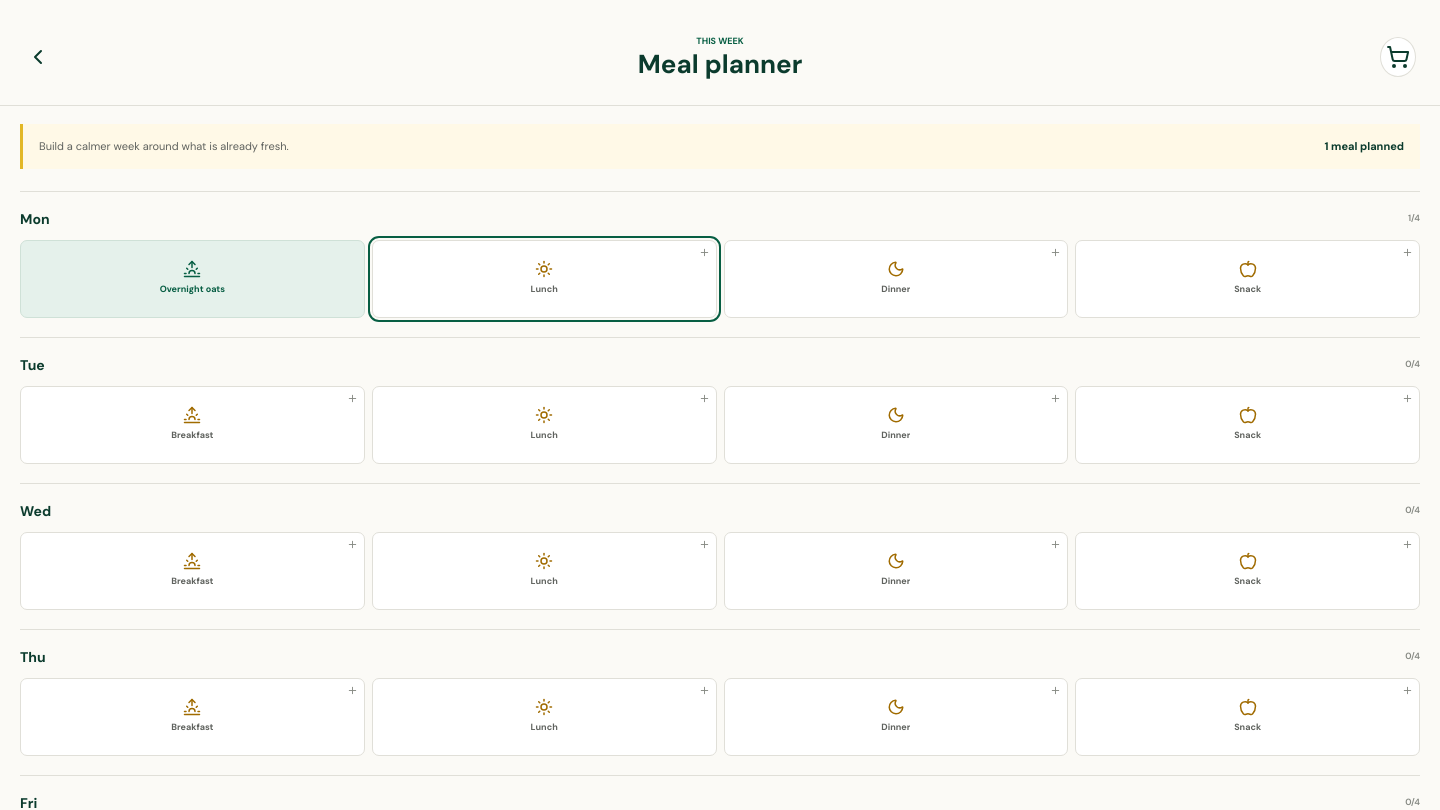
MealPlanner › hides the picker and restores focus on Escape or Close
Expected: the heading "Meal planner" is shown, [638,47,802,81]
Click the button with aria-label "Add lunch for Mon".
click(544, 278)  # box [372,240,717,318]
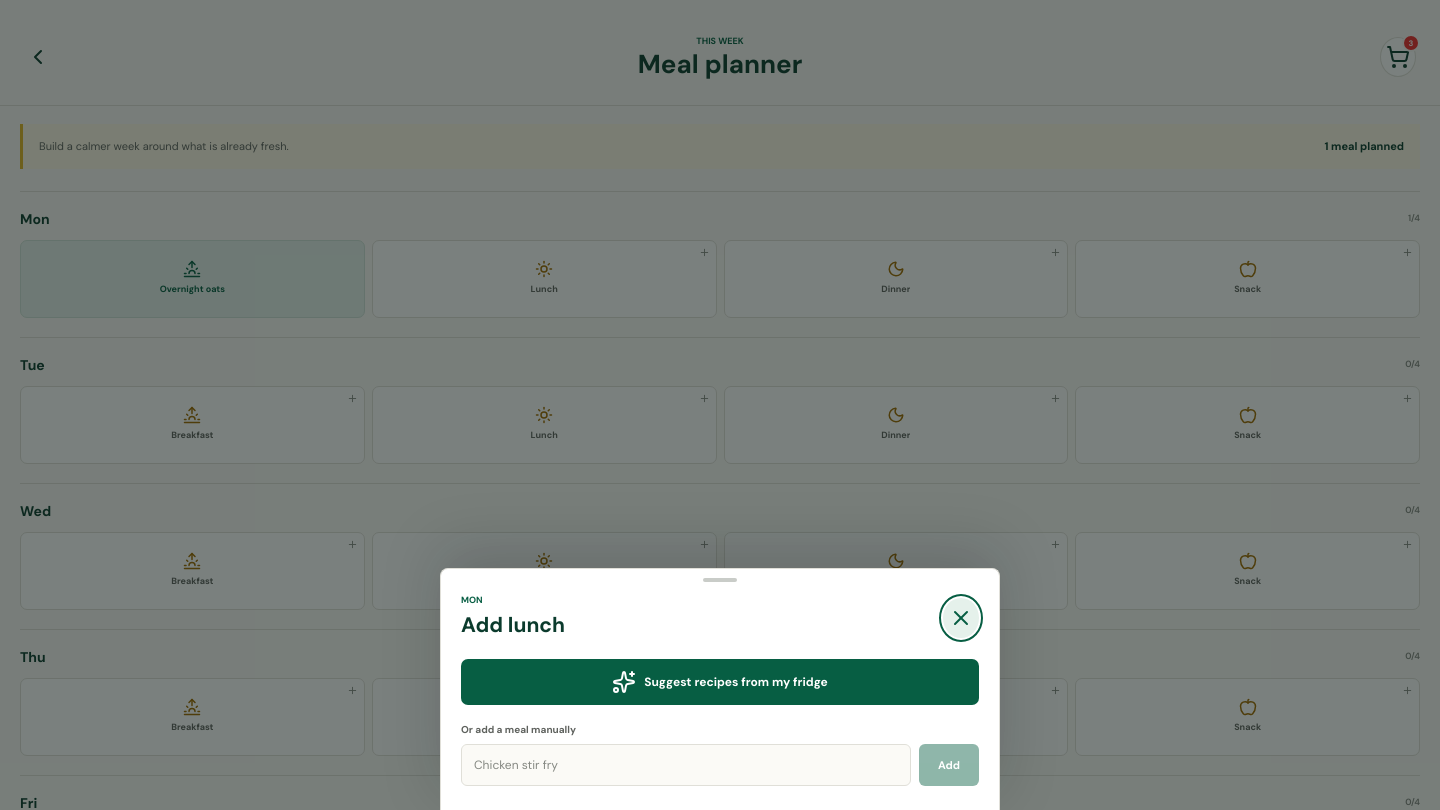
Now the dialog "Add lunch" is shown, box [440,568,1000,809]
Press Escape
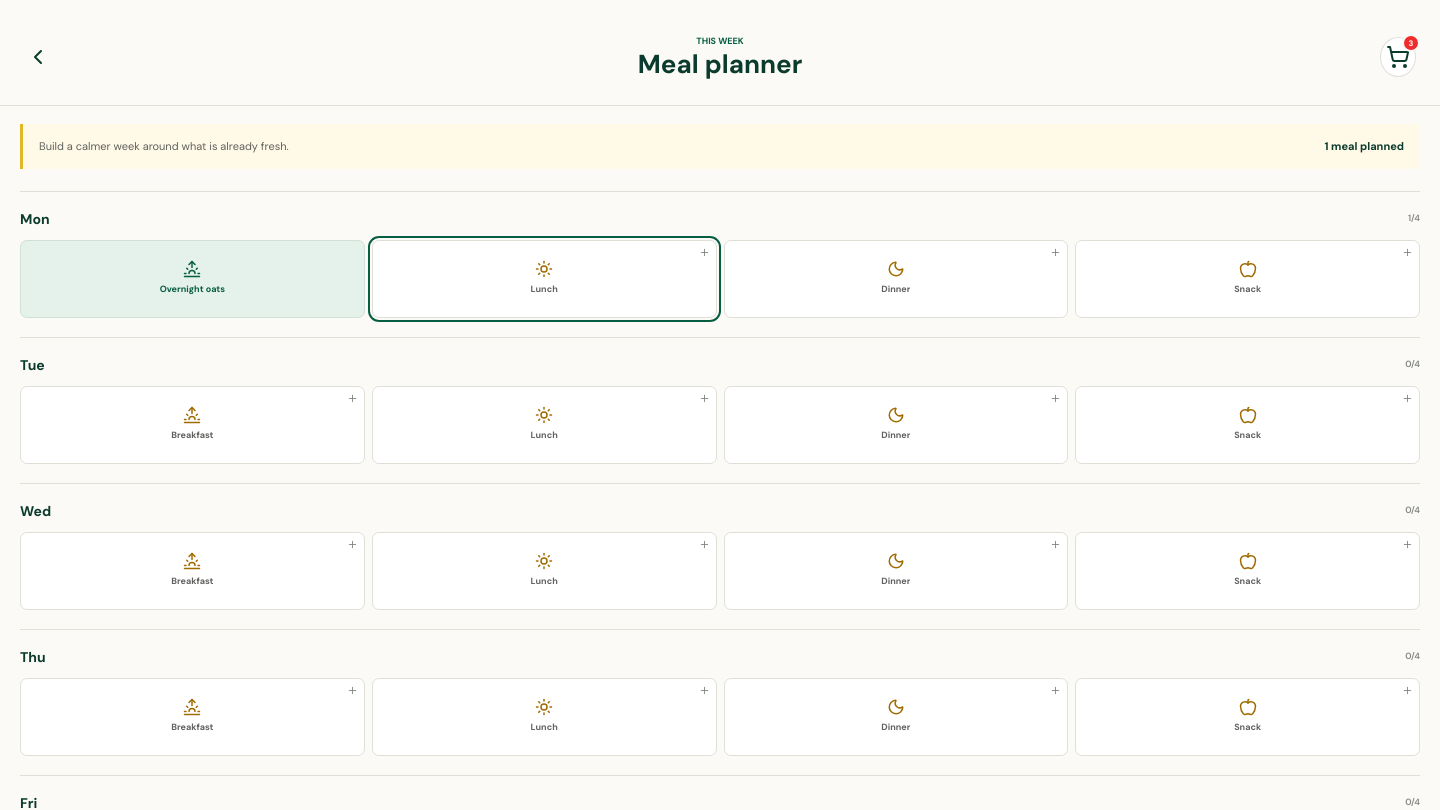
Now the heading "Add lunch" is gone
Click the button with aria-label "Add lunch for Mon".
click(544, 278)  # box [372,240,717,318]
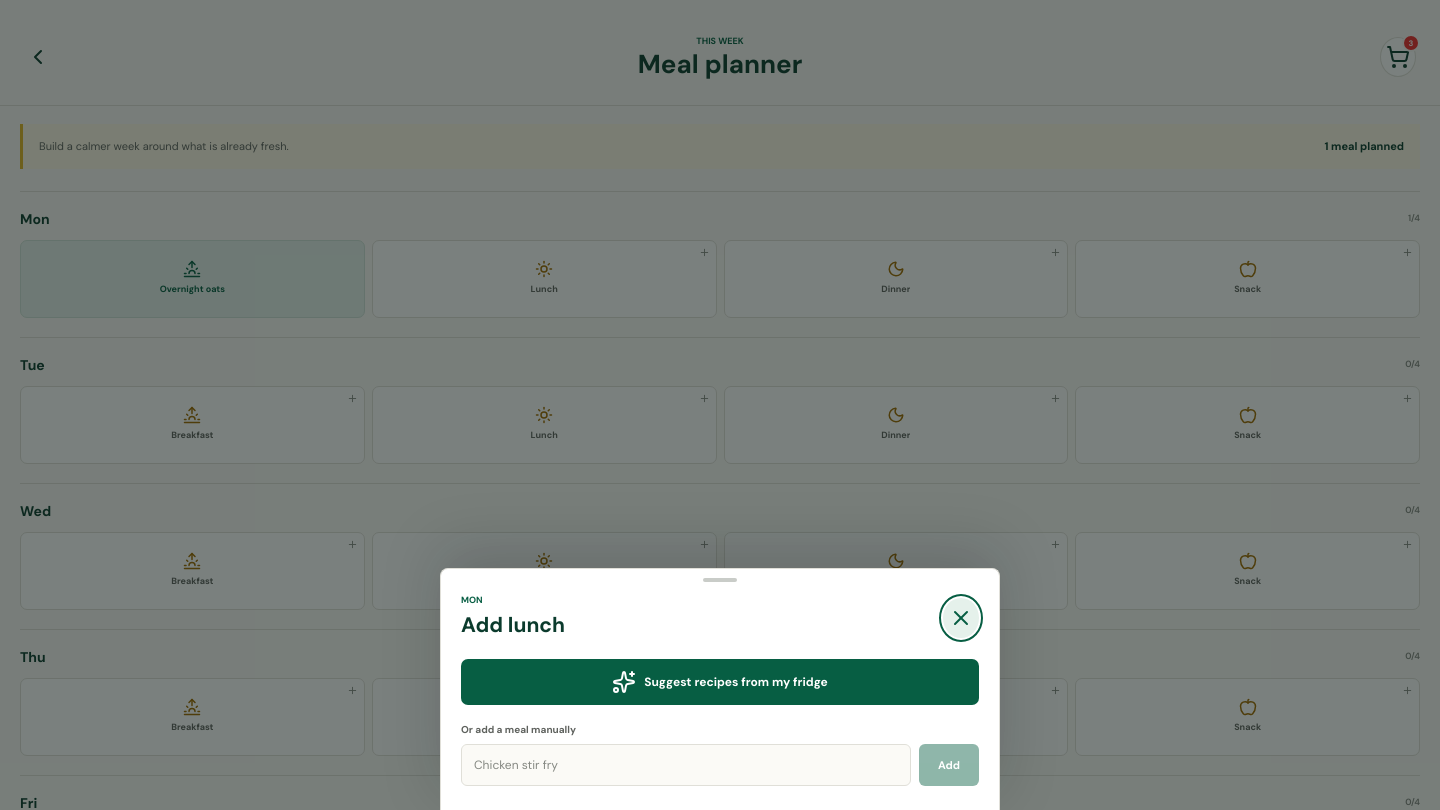
Now the dialog "Add lunch" is shown, box [440,568,1000,809]
Click the button named "Close meal picker".
click(961, 618)  # box [943,598,979,638]
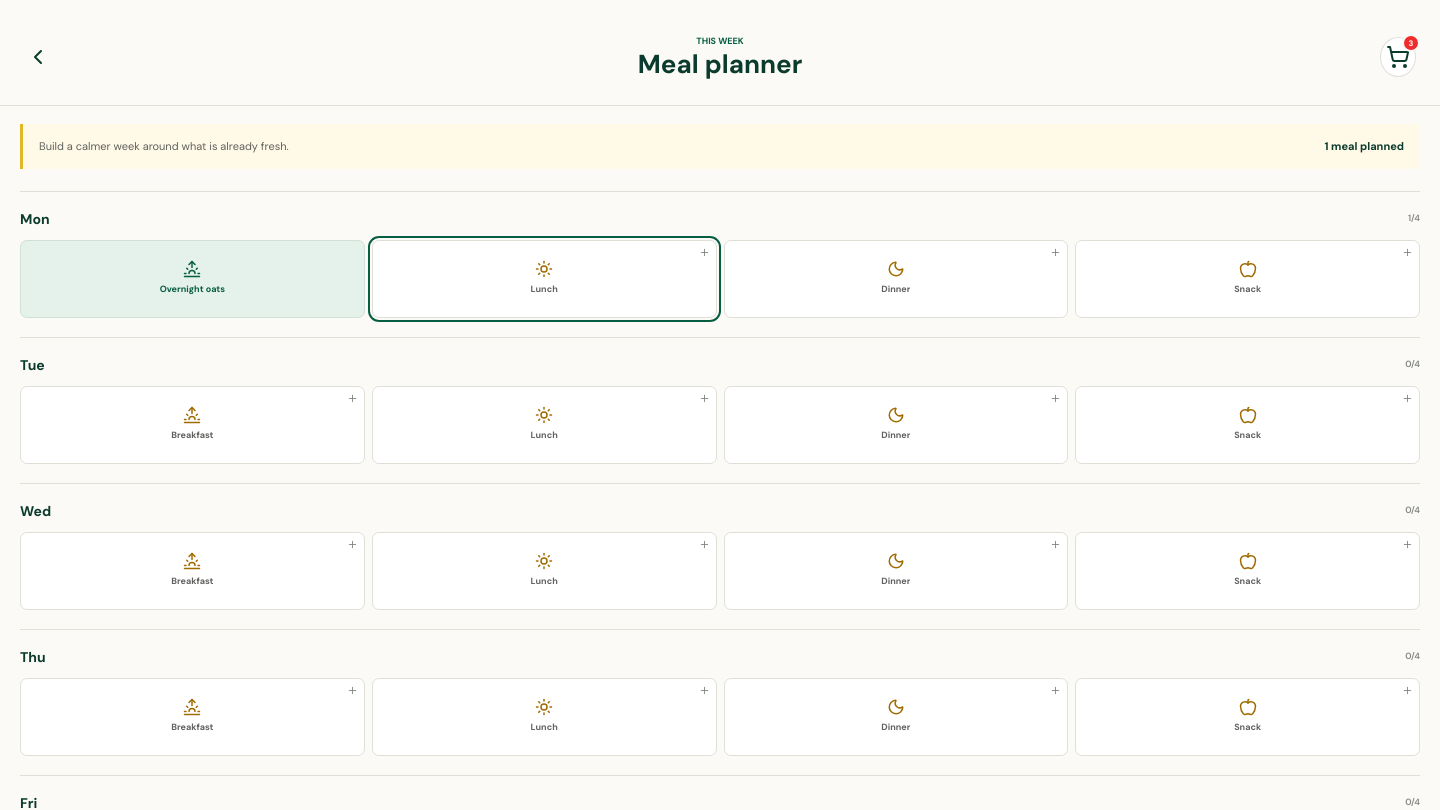
Now the heading "Add lunch" is gone
